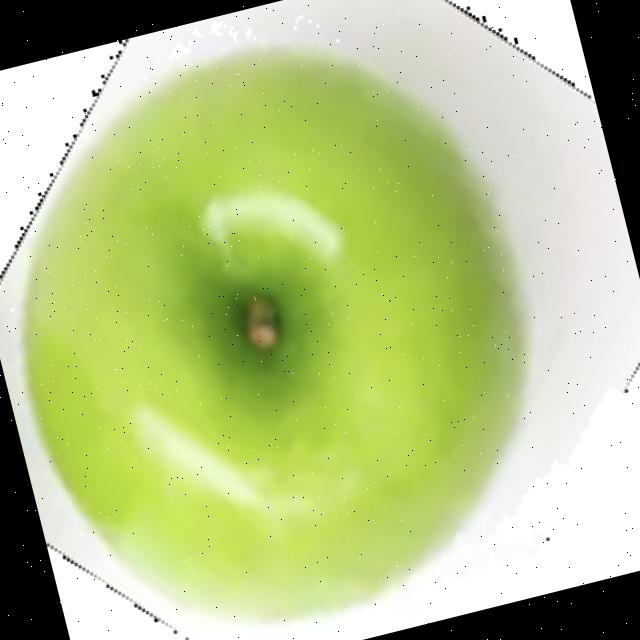apple: (3, 16, 536, 628)
